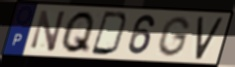6: (127, 14, 156, 57)
D: (88, 10, 130, 58)
G: (155, 15, 192, 58)
N: (29, 8, 68, 53)
Q: (59, 10, 97, 55)
V: (194, 16, 226, 61)
